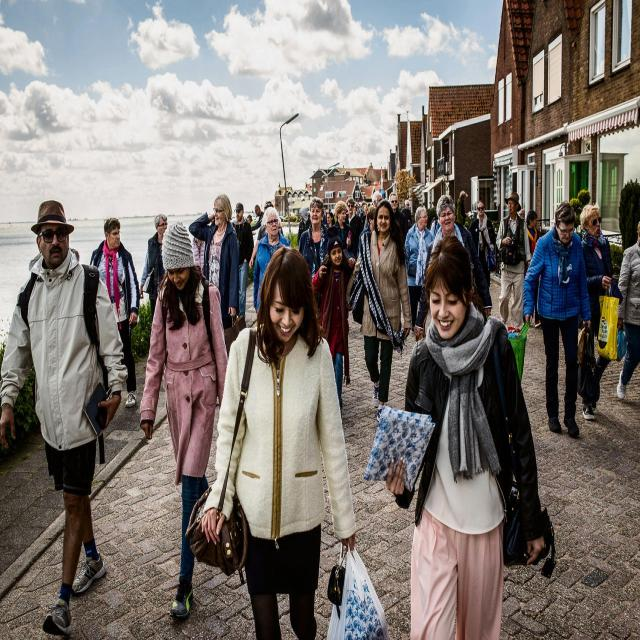body: (362, 230, 560, 640), (179, 242, 359, 640), (0, 198, 128, 639), (139, 219, 227, 622), (521, 200, 601, 440), (344, 196, 412, 424), (413, 195, 493, 342), (83, 214, 141, 412), (187, 192, 247, 362), (578, 202, 624, 423), (310, 224, 358, 428), (495, 190, 533, 329), (276, 192, 391, 235), (401, 204, 435, 340), (252, 206, 292, 315), (616, 220, 640, 401), (138, 212, 168, 326), (230, 201, 255, 321), (298, 194, 332, 278), (467, 199, 497, 288), (522, 208, 542, 330), (356, 204, 378, 260), (344, 196, 362, 260), (388, 191, 408, 246), (256, 199, 274, 256), (332, 199, 352, 250), (363, 190, 383, 231), (296, 205, 312, 248), (191, 236, 207, 276), (322, 212, 336, 254), (456, 190, 468, 229), (400, 198, 414, 228), (250, 204, 264, 233), (430, 207, 442, 240), (519, 208, 527, 222), (246, 213, 253, 226)
